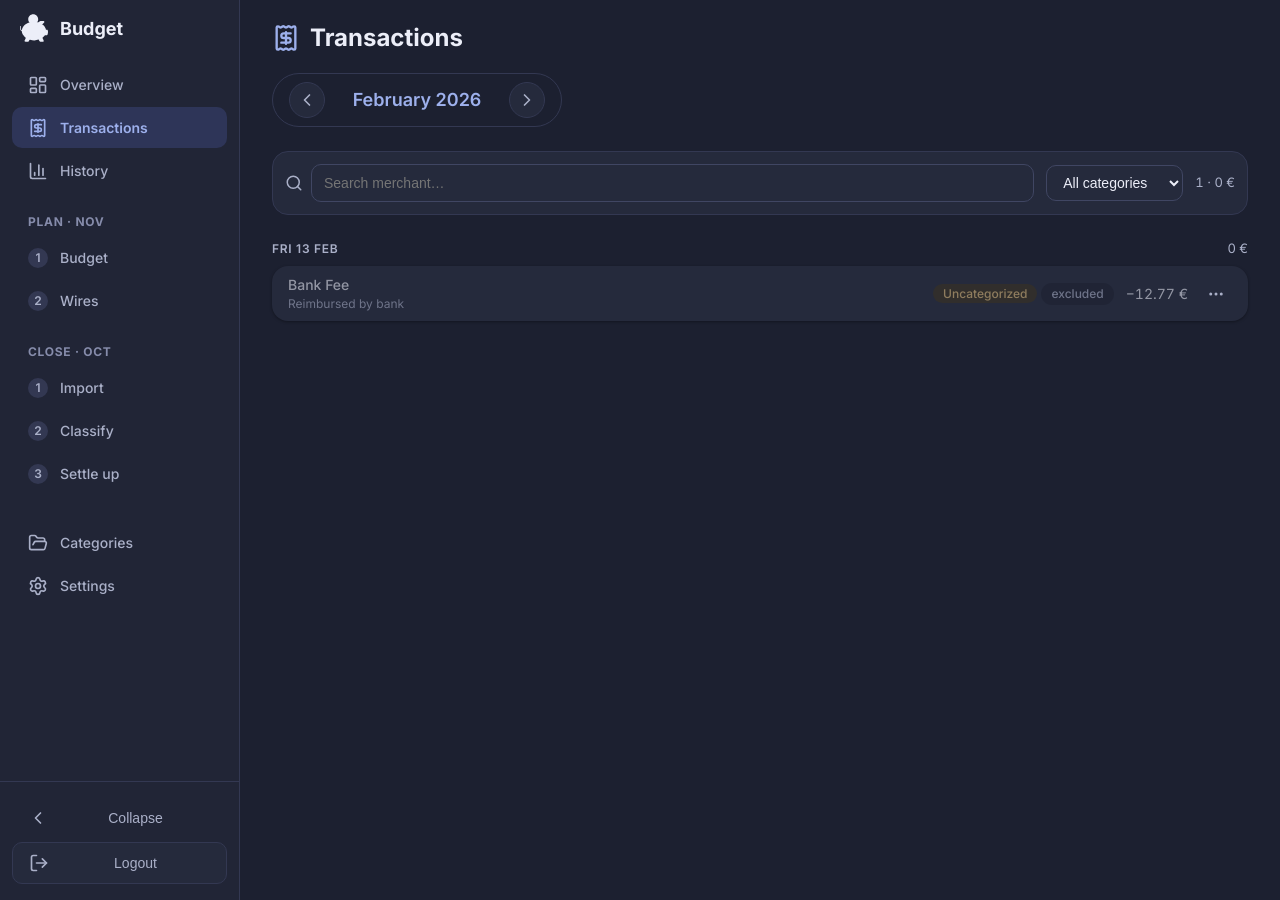
Transactions Page › should offer Include for excluded transactions and tag them instead of striking through
Expected: the text "excluded" is shown, [1042,283,1114,305]
Expected: the text "Reimbursed by bank" is shown, [288,296,404,311]
Click the button named "Actions for Bank Fee": (1216, 294) [1200,278,1232,310]
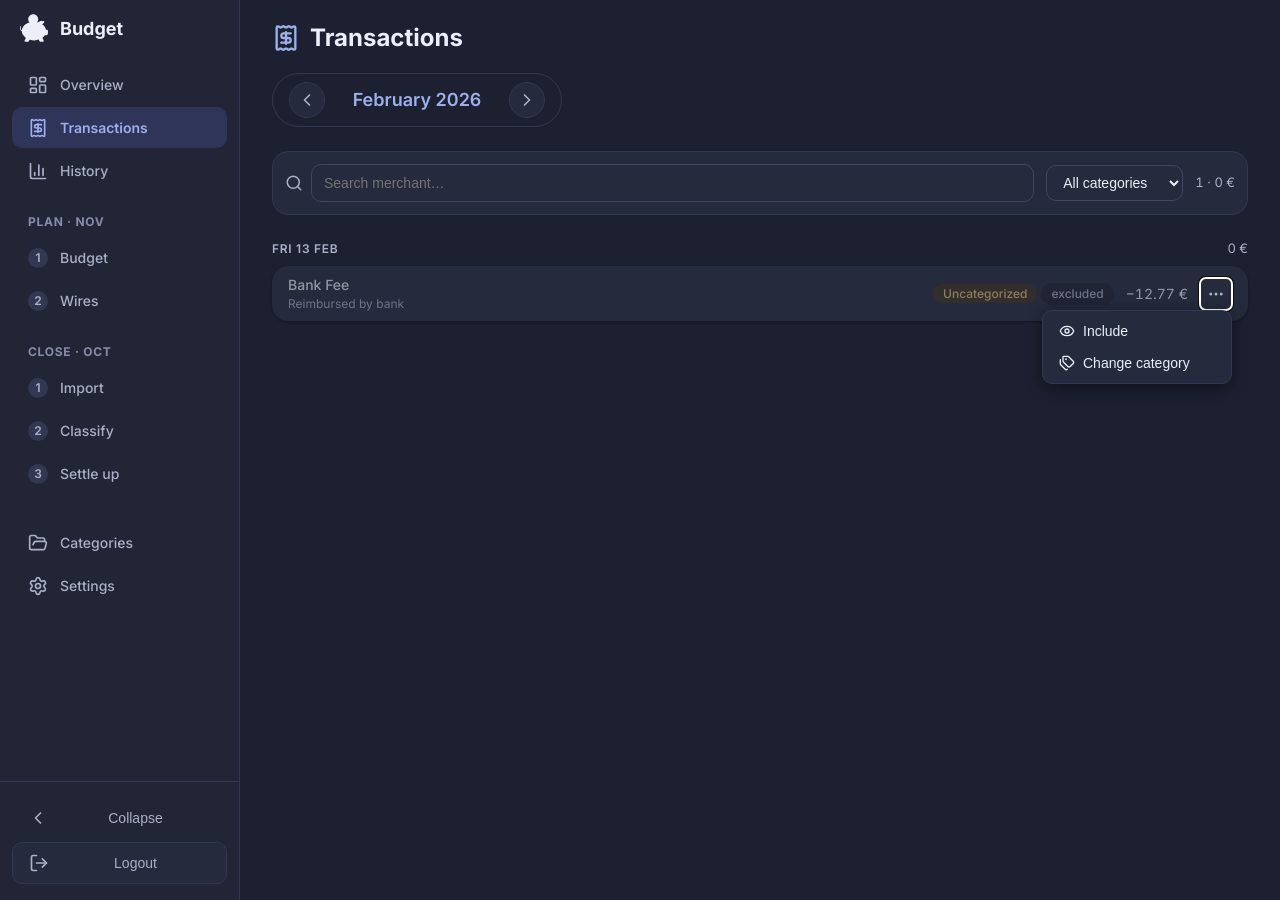
Expected: the menu item "Include" is shown, [1047,315,1227,347]
